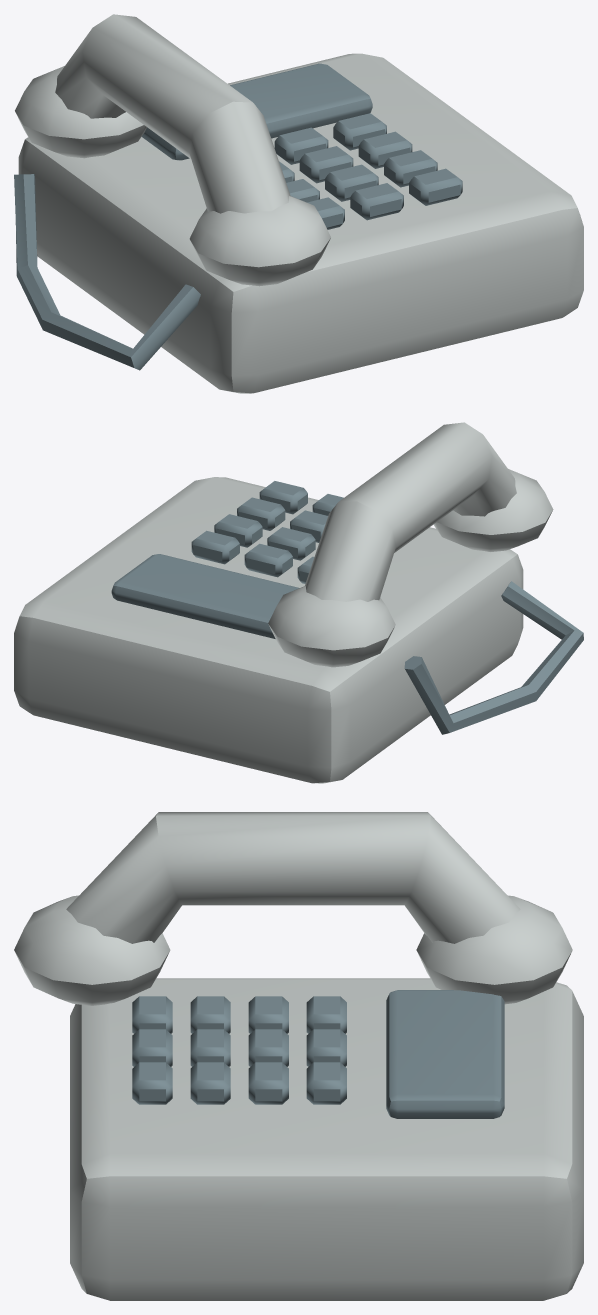
The model's file is desk-phone.glb.
3 views of the same model, one above another, from view 1: azimuth 30°, elevation 25°; view 2: azimuth 150°, elevation 25°; view 3: azimuth 270°, elevation 25° (orthographic). The views are drawn at different scales.
Visible parts, largest first — view 1: phone_base, handset, handset_capsule.001, curly_cord, phone_display, handset_capsule, dial_key.007, dial_key.011, dial_key.005, dial_key.009, dial_key.004, dial_key.006 (+4 smaller); view 2: phone_base, handset, phone_display, handset_capsule, curly_cord, handset_capsule.001, dial_key.004, dial_key.008, dial_key.010, dial_key.005, dial_key.009, dial_key.011 (+1 smaller); view 3: phone_base, handset, phone_display, handset_capsule.001, handset_capsule, dial_key.011, dial_key.010, dial_key.009, dial_key.008, dial_key.003, dial_key.001, dial_key.002 (+5 smaller).
Boxes of the visible parts, x1=… form: phone_base: x1=18, y1=53, x2=583, y2=393; handset: x1=55, y1=14, x2=290, y2=213; handset_capsule.001: x1=189, y1=196, x2=330, y2=286; curly_cord: x1=14, y1=174, x2=200, y2=370; phone_display: x1=141, y1=63, x2=372, y2=160; handset_capsule: x1=15, y1=66, x2=146, y2=158; dial_key.007: x1=350, y1=183, x2=403, y2=220; dial_key.011: x1=409, y1=168, x2=462, y2=205; dial_key.005: x1=299, y1=146, x2=353, y2=183; dial_key.009: x1=358, y1=131, x2=412, y2=168; dial_key.004: x1=274, y1=127, x2=328, y2=164; dial_key.006: x1=325, y1=164, x2=378, y2=201; phone_base: x1=14, y1=477, x2=523, y2=783; handset: x1=304, y1=422, x2=516, y2=601; phone_display: x1=111, y1=554, x2=299, y2=638; handset_capsule: x1=268, y1=586, x2=395, y2=667; curly_cord: x1=404, y1=581, x2=583, y2=734; handset_capsule.001: x1=433, y1=469, x2=553, y2=551; dial_key.004: x1=244, y1=543, x2=292, y2=577; dial_key.008: x1=191, y1=530, x2=239, y2=564; dial_key.010: x1=237, y1=497, x2=285, y2=530; dial_key.005: x1=267, y1=527, x2=315, y2=560; dial_key.009: x1=214, y1=514, x2=262, y2=547; dial_key.011: x1=259, y1=481, x2=307, y2=514; phone_base: x1=70, y1=978, x2=583, y2=1300; handset: x1=66, y1=812, x2=520, y2=943; phone_display: x1=386, y1=990, x2=504, y2=1118; handset_capsule.001: x1=14, y1=895, x2=170, y2=1005; handset_capsule: x1=416, y1=895, x2=572, y2=1004; dial_key.011: x1=132, y1=1062, x2=172, y2=1104; dial_key.010: x1=190, y1=1062, x2=230, y2=1104; dial_key.009: x1=248, y1=1062, x2=288, y2=1104; dial_key.008: x1=306, y1=1062, x2=346, y2=1104; dial_key.003: x1=132, y1=996, x2=172, y2=1033; dial_key.001: x1=248, y1=996, x2=288, y2=1033; dial_key.002: x1=190, y1=996, x2=230, y2=1033.
Size of the model in its own units: 0.2753 by 0.156 by 0.255.
